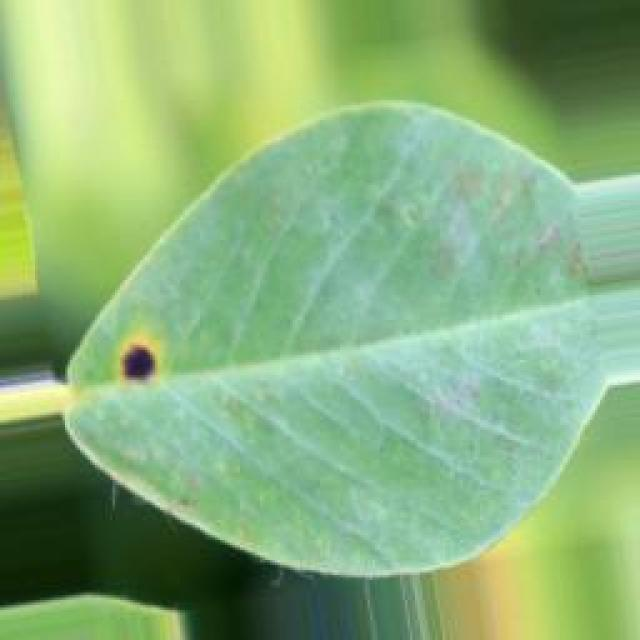Yellowish: (82, 314, 221, 434)
